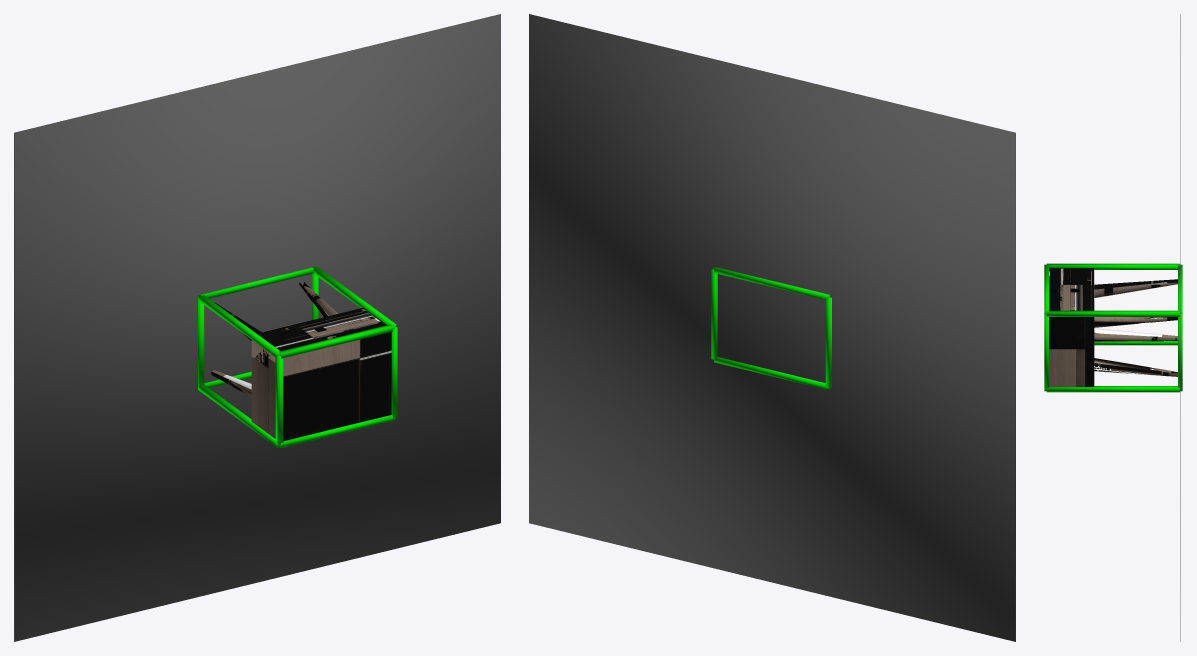
The picture shows the model from 3 angles, left to right: view 1: azimuth 30°, elevation 25°; view 2: azimuth 150°, elevation 25°; view 3: azimuth 270°, elevation 25°; orthographic projection. The views are drawn at different scales.
Size of the model in its own units: 2 by 2 by 0.5848.
